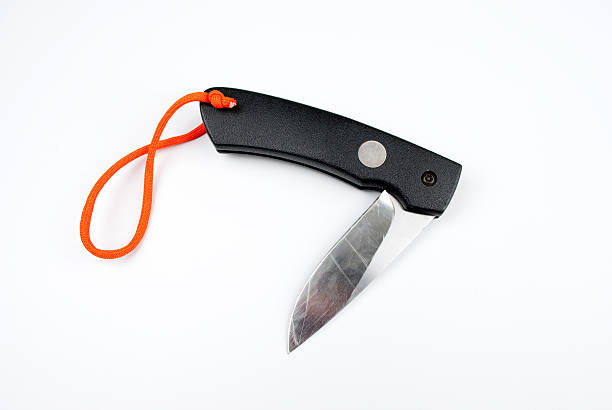knife: (192, 80, 466, 357)
